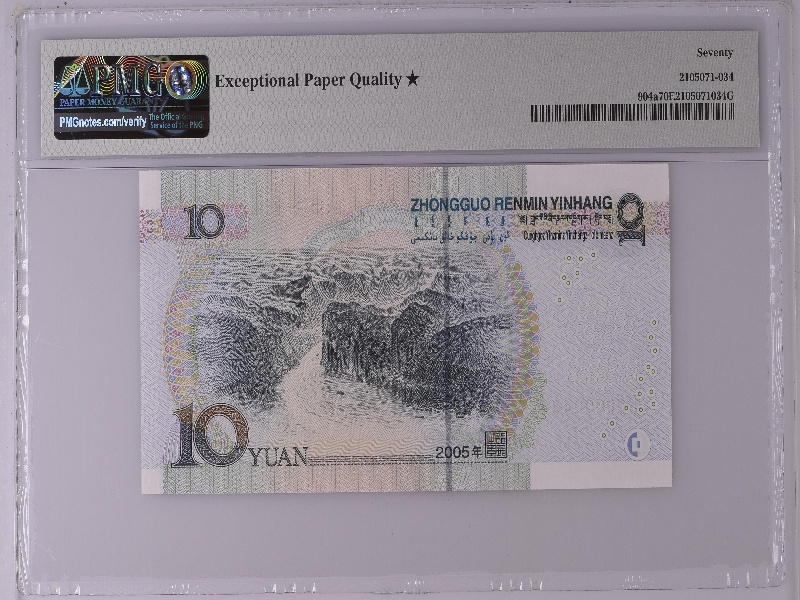papernote: (138, 163, 677, 494)
